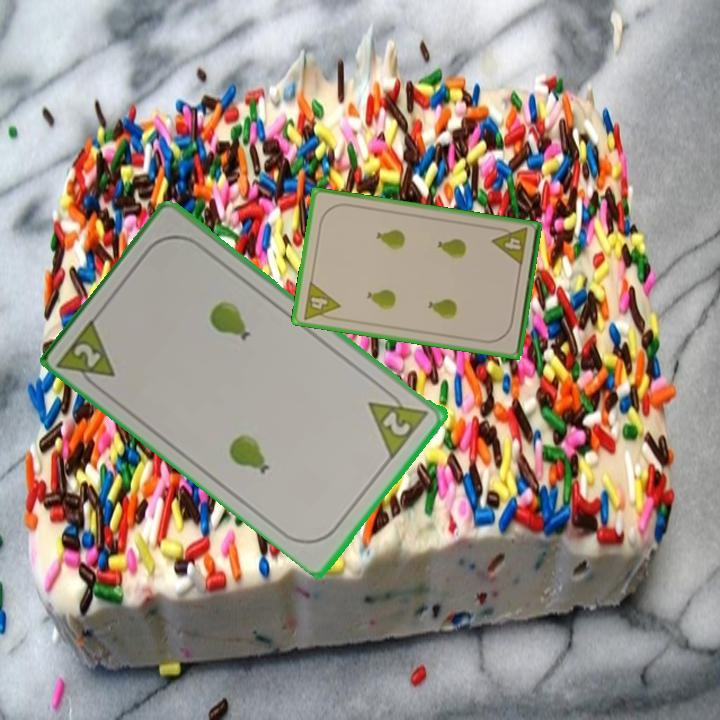2p: (54, 313, 120, 396), (365, 382, 432, 460)
4p: (299, 278, 343, 324), (489, 224, 530, 269)
